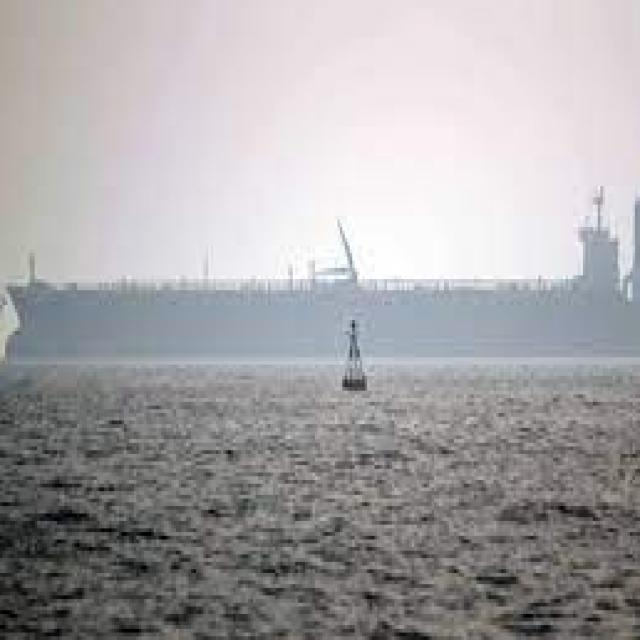cargoship: (2, 167, 640, 361)
sailboat: (328, 310, 374, 392)
